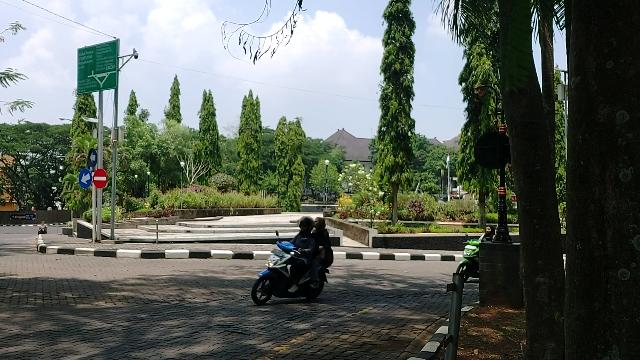helm: (297, 217, 315, 236)
motor: (251, 231, 331, 307)
non-helm: (316, 218, 327, 231)
